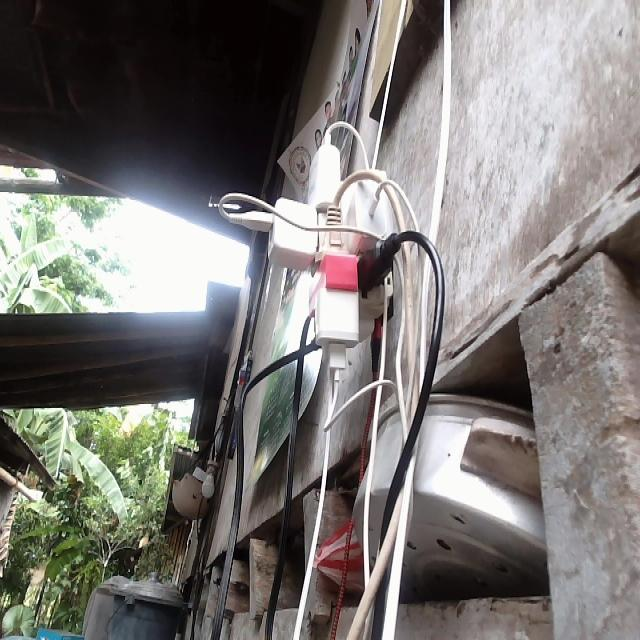-: (217, 119, 417, 381)
